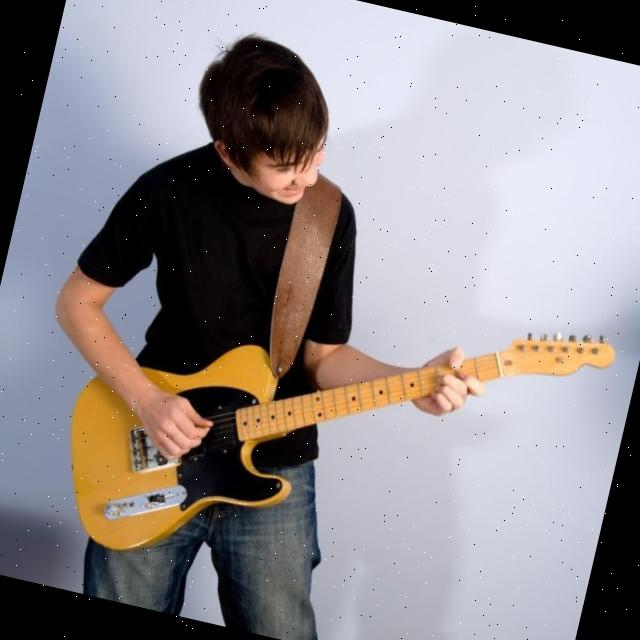guitar: (43, 221, 620, 640)
